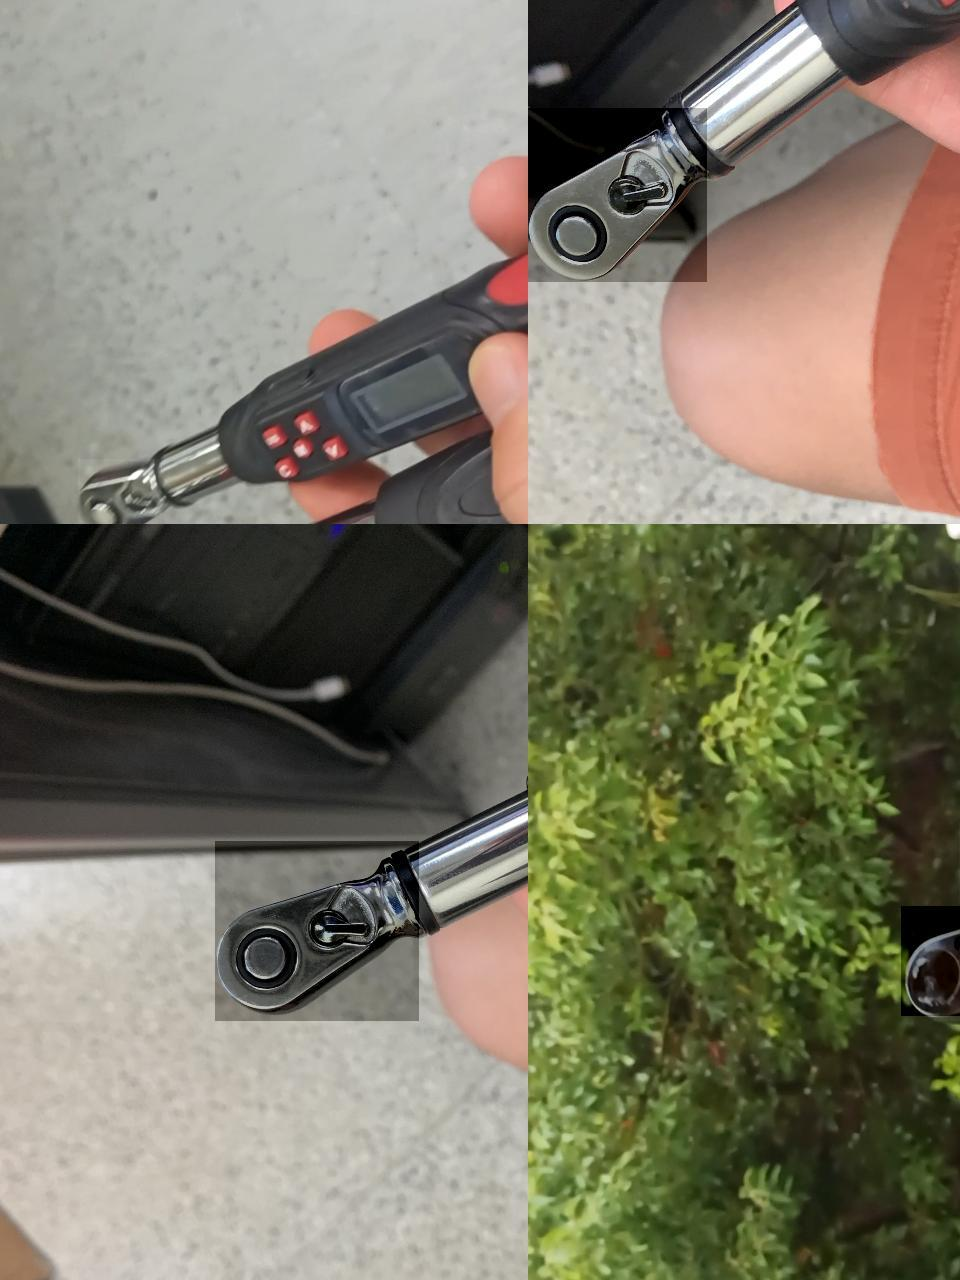Tool: (215, 841, 419, 1021), (528, 108, 707, 282), (901, 906, 960, 1016), (78, 459, 162, 524)
